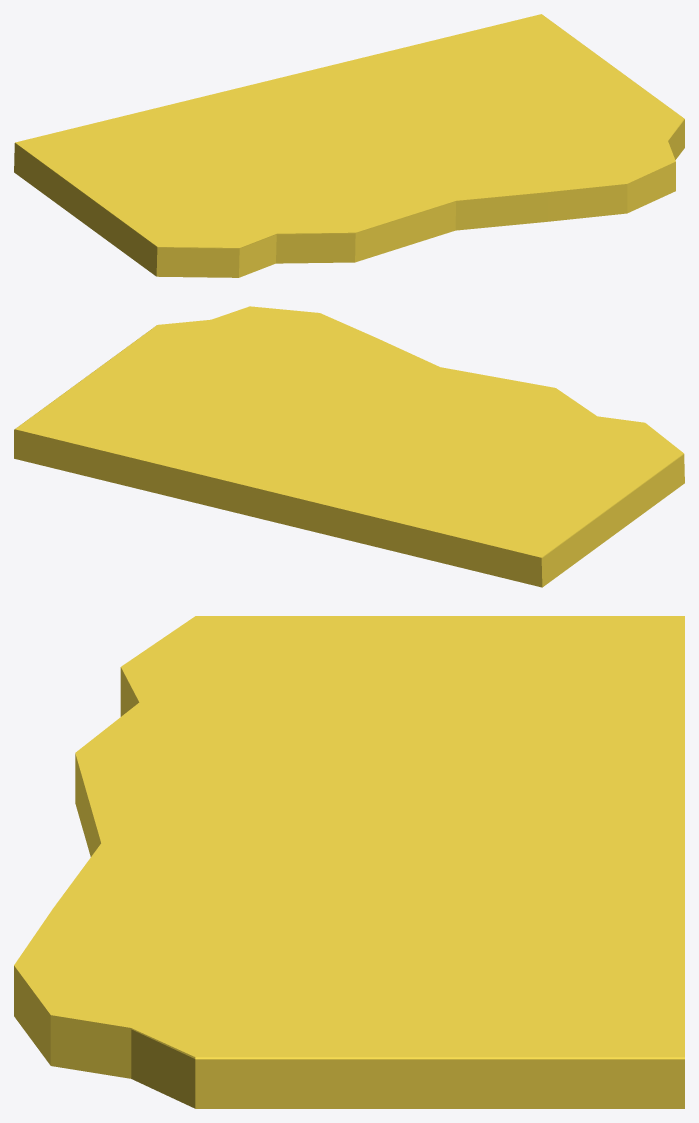
Rendered from gnd_end_yellow_01.fbx.
3 renders of one model, top to bottom at view 1: azimuth 30°, elevation 25°; view 2: azimuth 150°, elevation 25°; view 3: azimuth 270°, elevation 25°, orthographic. The views are drawn at different scales.
Parts seen in each view (by area): view 1: gnd_end_yellow_01; view 2: gnd_end_yellow_01; view 3: gnd_end_yellow_01.
Boxes of the visible parts, x1,y1,x2,y2 form: gnd_end_yellow_01: [14, 14, 684, 277]; gnd_end_yellow_01: [14, 306, 684, 587]; gnd_end_yellow_01: [14, 616, 684, 1108].
Bounding box in the file's own units: 7648 × 410 × 4900.
